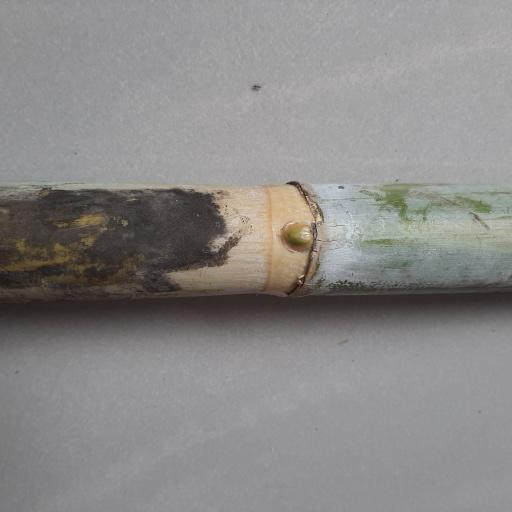Bud: (278, 220, 315, 253)
